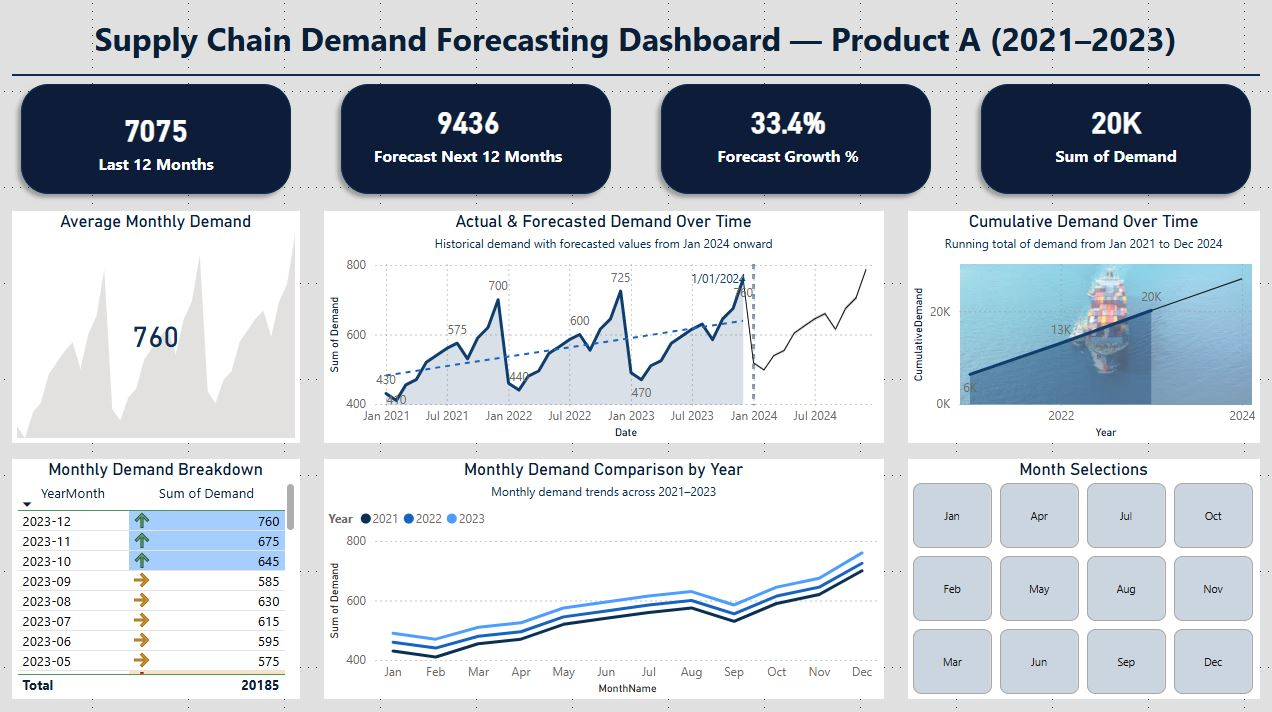

The page's visual inventory and layout, read from the dashboard file:
{"tool":"powerbi","page":{"name":"Page 1","canvas":[1280,720],"ordinal":0},"visuals":[{"type":"shape","box":[0,0,1280,720],"z":0},{"type":"shape","box":[976,80,288,128],"z":1000},{"type":"shape","box":[656,80,288,128],"z":2000},{"type":"shape","box":[336,80,288,128],"z":3000},{"type":"shape","box":[16,80,288,128],"z":4000},{"type":"lineChart","title":"Actual & Forecasted Demand Over Time","fields":{"Category":["monthly_demand_productA csv.Date"],"Y":["Sum(monthly_demand_productA csv.Demand)"]},"box":[328,216,560,232],"z":5000},{"type":"kpi","title":"Average Monthly Demand","fields":{"Indicator":["Avg(monthly_demand_productA csv.Demand)"],"TrendLine":["monthly_demand_productA csv.Date"]},"box":[16,216,288,232],"z":6000},{"type":"card","fields":{"Values":["monthly_demand_productA csv.Forecast Next 12 Months"]},"box":[336,80,272,112],"z":7000},{"type":"card","fields":{"Values":["monthly_demand_productA csv.Last 12 Months"]},"box":[16,96,288,96],"z":8000},{"type":"card","fields":{"Values":["monthly_demand_productA csv.Forecast Growth %"]},"box":[656,80,272,112],"z":9000},{"type":"tableEx","title":"Monthly Demand Breakdown","fields":{"Values":["monthly_demand_productA csv.YearMonth","Sum(monthly_demand_productA csv.Demand)"]},"box":[16,464,288,240],"z":10000},{"type":"textbox","box":[16,16,1248,64],"z":11000},{"type":"card","fields":{"Values":["Sum(monthly_demand_productA csv.Demand)"]},"box":[976,80,288,112],"z":12000},{"type":"advancedSlicerVisual","title":"Month Selections","fields":{"Values":["monthly_demand_productA csv.MonthName"]},"box":[912,464,352,240],"z":13000},{"type":"lineChart","title":"Monthly Demand Comparison by Year","fields":{"Category":["monthly_demand_productA csv.MonthName"],"Series":["monthly_demand_productA csv.Year"],"Y":["Sum(monthly_demand_productA csv.Demand)"]},"box":[328,464,560,240],"z":14000},{"type":"lineChart","title":"Cumulative Demand Over Time","fields":{"Y":["monthly_demand_productA csv.CumulativeDemand"],"Category":["monthly_demand_productA csv.Year"]},"box":[912,216,352,232],"z":15000},{"type":"shape","box":[16,48,1248,64],"z":16000}]}

Visuals, with their boxes in screenshot pixels (x1, y1, x2, y2), scaled from the page's 1280x720 canvas onto the 1272x712 screenshot:
shape: region(0, 0, 1271, 711)
shape: region(970, 79, 1256, 206)
shape: region(652, 79, 938, 206)
shape: region(334, 79, 620, 206)
shape: region(16, 79, 302, 206)
"Actual & Forecasted Demand Over Time" lineChart: region(326, 214, 882, 443)
"Average Monthly Demand" kpi: region(16, 214, 302, 443)
card - monthly_demand_productA csv.Forecast Next 12 Months: region(334, 79, 604, 190)
card - monthly_demand_productA csv.Last 12 Months: region(16, 95, 302, 190)
card - monthly_demand_productA csv.Forecast Growth %: region(652, 79, 922, 190)
"Monthly Demand Breakdown" tableEx: region(16, 459, 302, 696)
textbox: region(16, 16, 1256, 79)
card - Sum(monthly_demand_productA csv.Demand): region(970, 79, 1256, 190)
"Month Selections" advancedSlicerVisual: region(906, 459, 1256, 696)
"Monthly Demand Comparison by Year" lineChart: region(326, 459, 882, 696)
"Cumulative Demand Over Time" lineChart: region(906, 214, 1256, 443)
shape: region(16, 47, 1256, 111)
